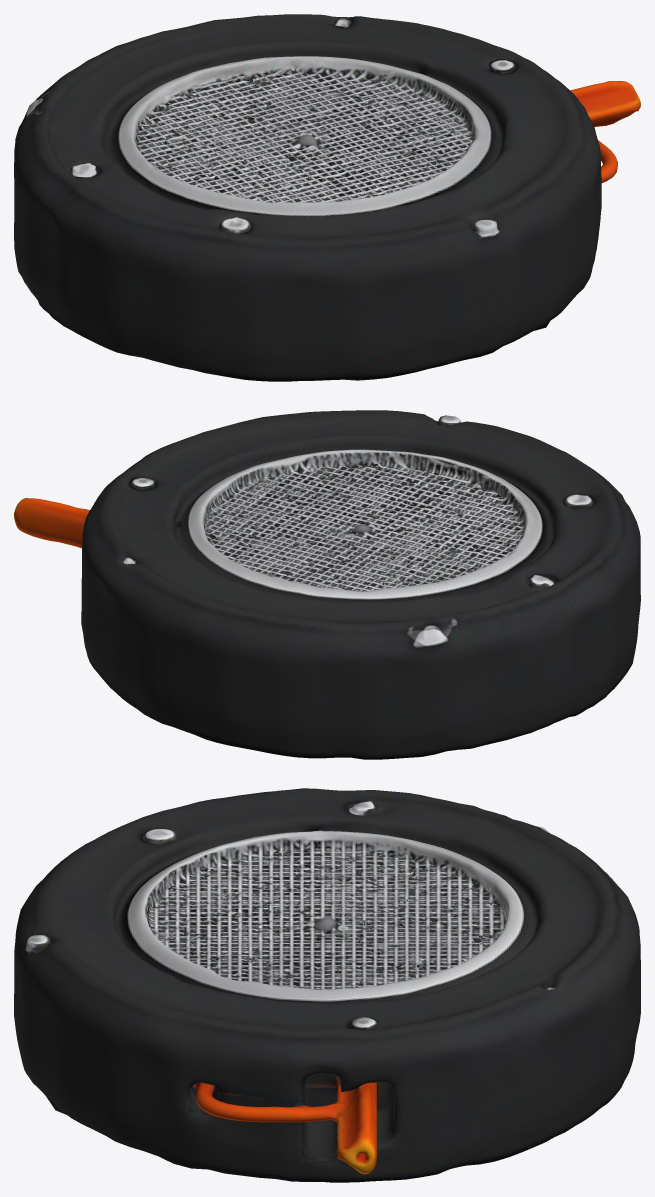
File: ml_job_part_speaker.glb
3 renders of one model, top to bottom at view 1: azimuth 30°, elevation 25°; view 2: azimuth 150°, elevation 25°; view 3: azimuth 270°, elevation 25°, orthographic. The views are drawn at different scales.
Parts seen in each view (by area): view 1: tripo_node_9efa7d43-ee32-4c71-a948-924d9a73f45e; view 2: tripo_node_9efa7d43-ee32-4c71-a948-924d9a73f45e; view 3: tripo_node_9efa7d43-ee32-4c71-a948-924d9a73f45e.
Part boxes in pixels (x1,y1,x2,y2): tripo_node_9efa7d43-ee32-4c71-a948-924d9a73f45e: (14,14,640,381); tripo_node_9efa7d43-ee32-4c71-a948-924d9a73f45e: (14,410,640,759); tripo_node_9efa7d43-ee32-4c71-a948-924d9a73f45e: (14,788,640,1182).
Size of the model in its own units: 0.9727 by 0.2124 by 0.8249.
1 material, 1 textured.
